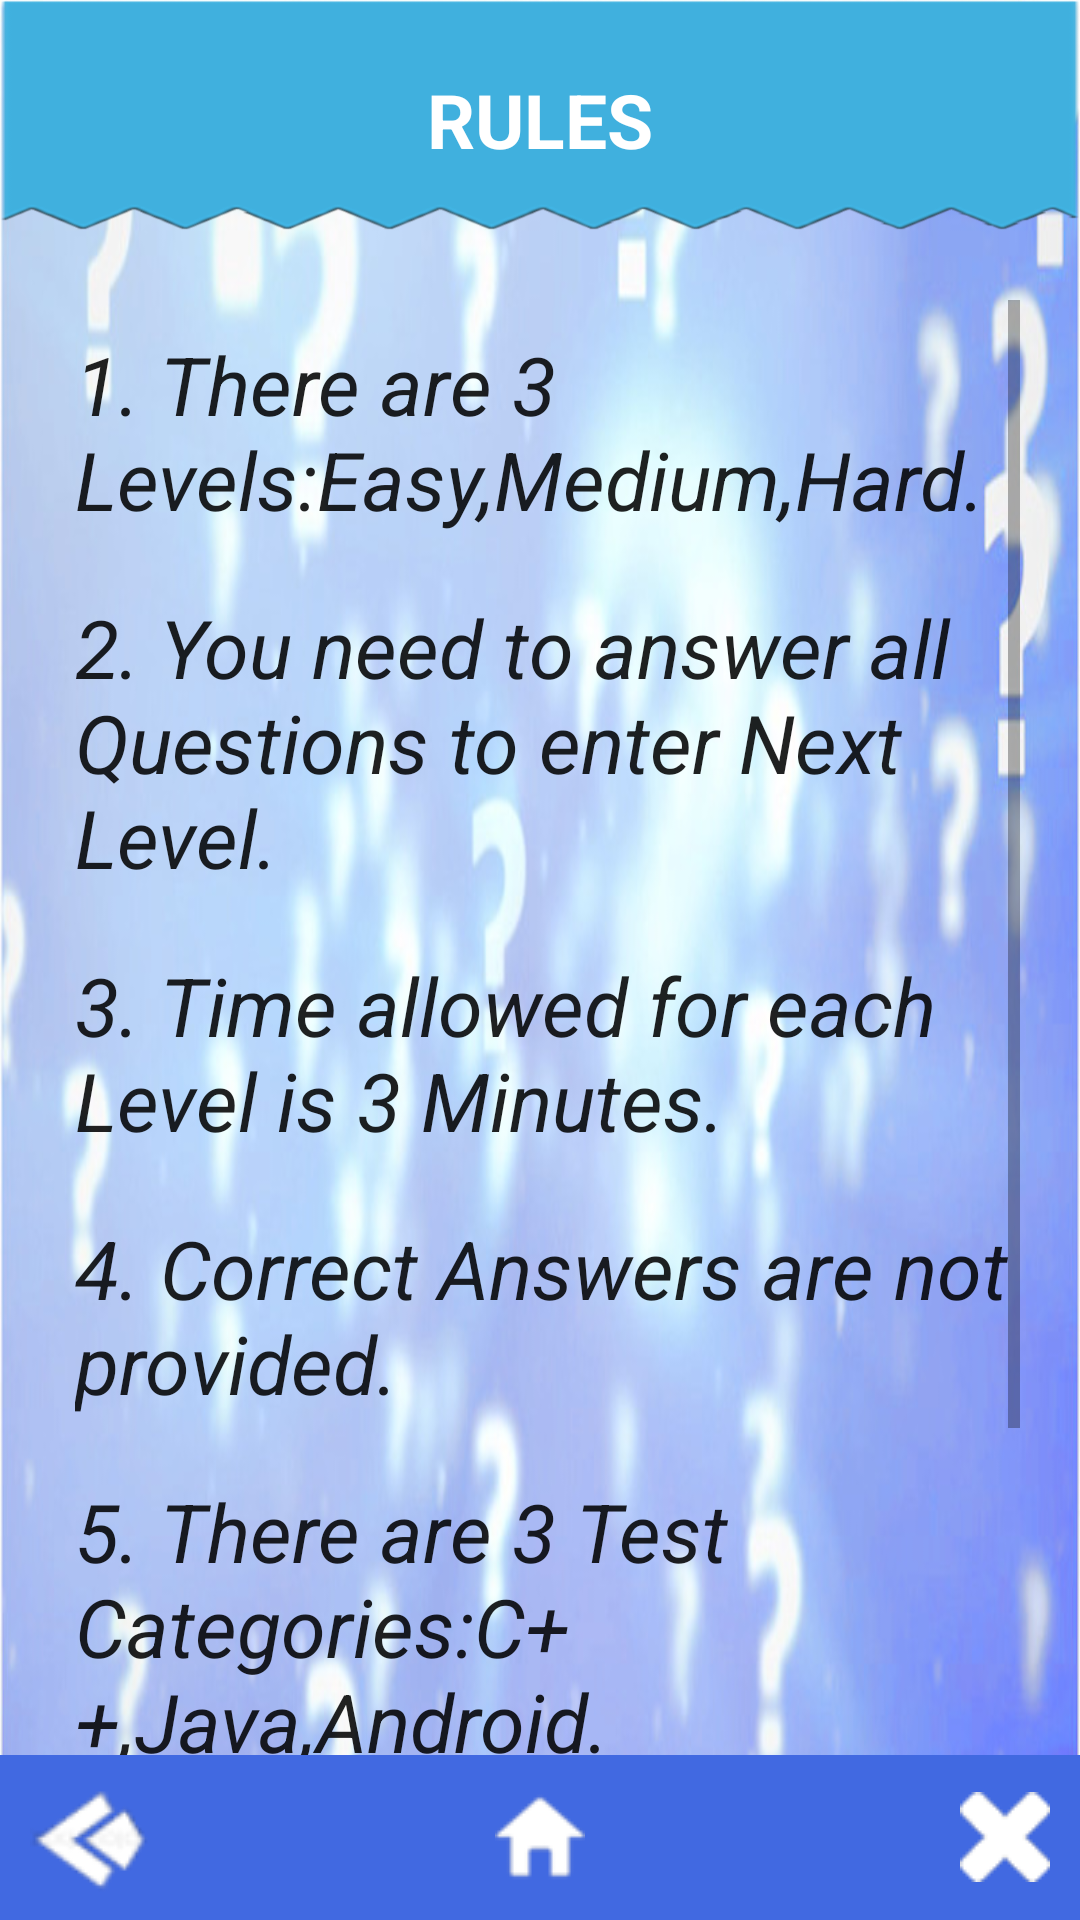

Named icons in this screenshot (1080w x 1920h) and their centers, [x,y]:
close: [1005,1837]
homy: [540,1837]
